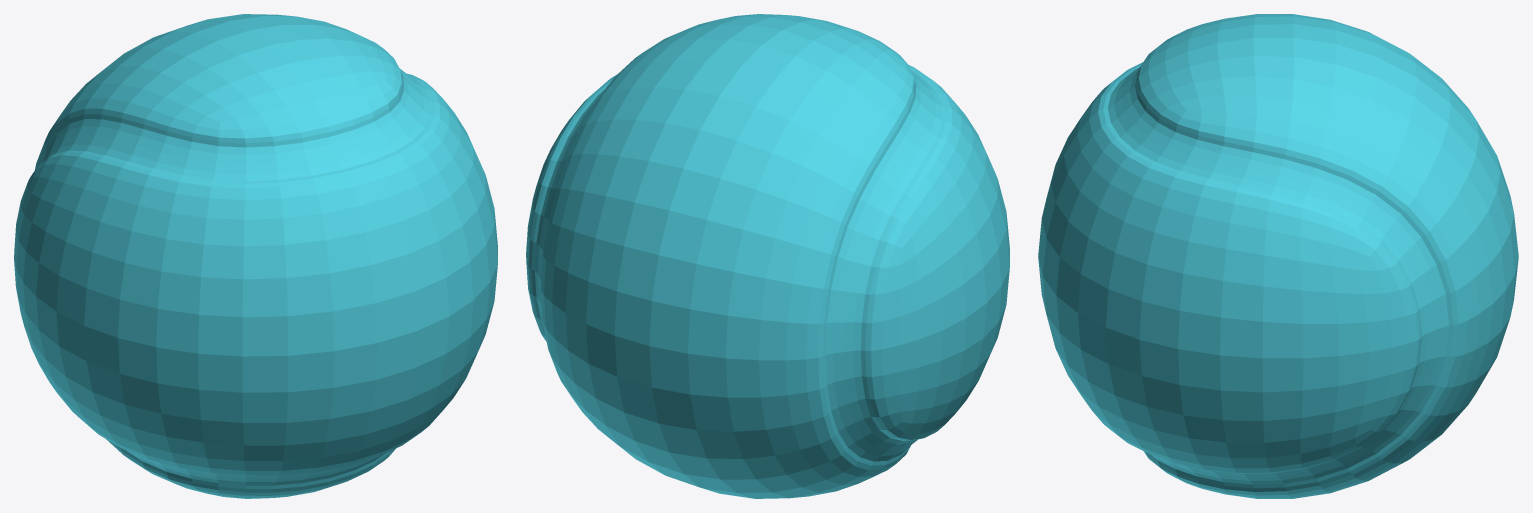
File: TennisBall.fbx
3 renders of one model, left to right at view 1: azimuth 30°, elevation 25°; view 2: azimuth 150°, elevation 25°; view 3: azimuth 270°, elevation 25°, orthographic.
Parts seen in each view (by area): view 1: Cube; view 2: Cube; view 3: Cube.
Part boxes in pixels (<box>): Cube: <box>14,14,497,498</box>; Cube: <box>526,14,1009,498</box>; Cube: <box>1038,14,1518,498</box>.
Bounding box in the file's own units: 219 × 219 × 219.
